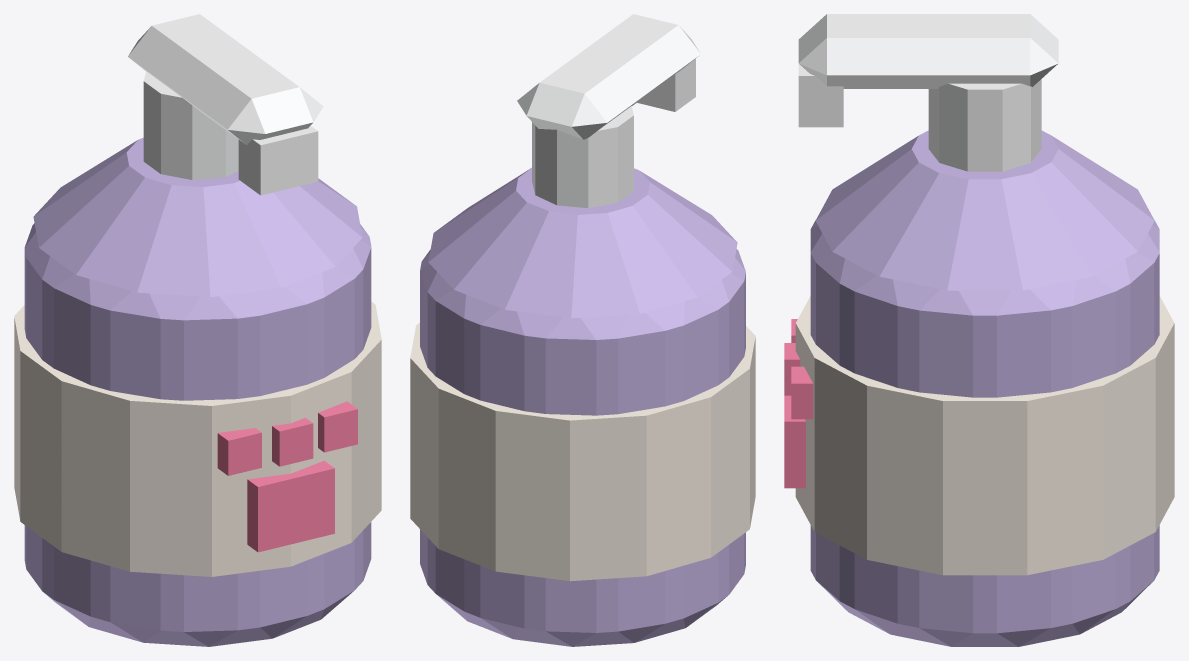
The model's file is CleanACat_Tool_Shampoo.fbx.
3 renders of one model, left to right at view 1: azimuth 30°, elevation 25°; view 2: azimuth 150°, elevation 25°; view 3: azimuth 270°, elevation 25°, orthographic. The views are drawn at different scales.
Visible parts, largest first — view 1: CleanACat_Tool_Shampoo; view 2: CleanACat_Tool_Shampoo; view 3: CleanACat_Tool_Shampoo.
Boxes of the visible parts, x1,y1,x2,y2 form: CleanACat_Tool_Shampoo: (14, 14, 381, 646); CleanACat_Tool_Shampoo: (410, 14, 755, 646); CleanACat_Tool_Shampoo: (784, 14, 1174, 646).
Bounding box in the file's own units: 0.6532 × 1.09 × 0.69.
1 material, 1 textured.
